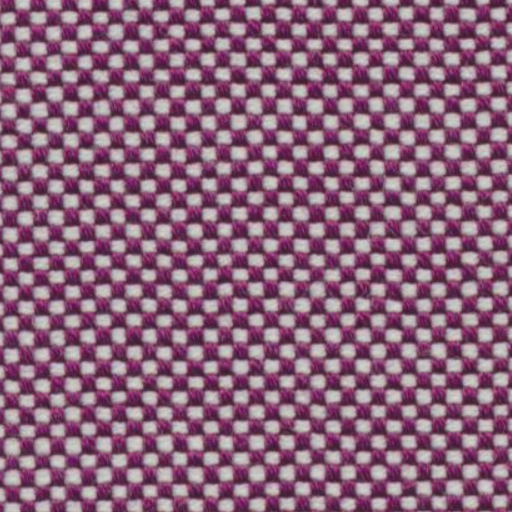TuoSha: (14, 44, 490, 124)
